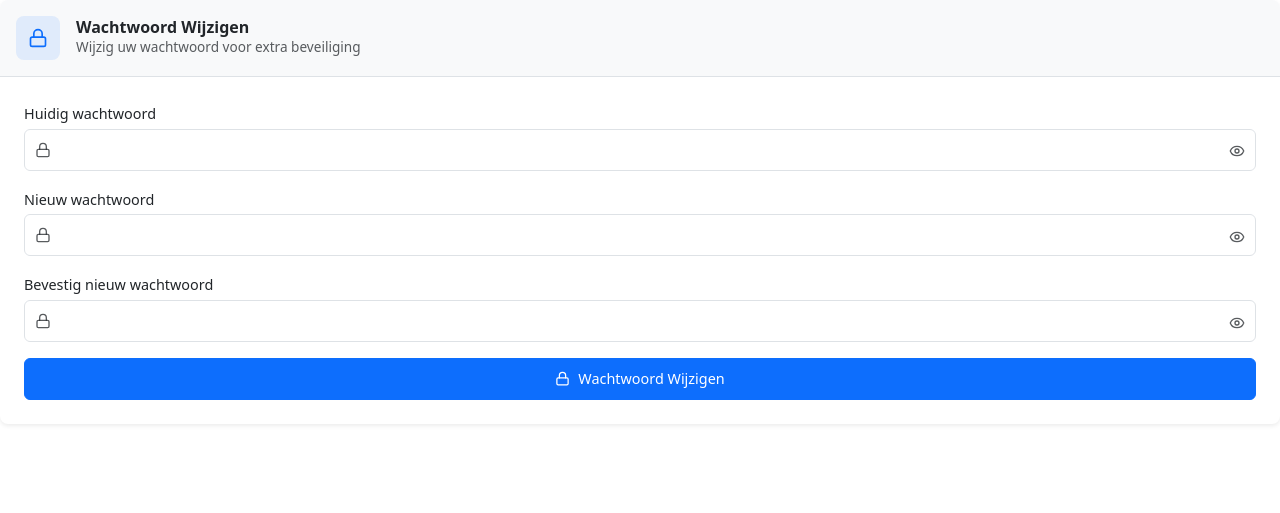
Test case: PasswordCard.vue › shows error when passwords do not match
Type "oldpass" into the password field with id "currentPassword".
click(640, 150); type("oldpass")  # box [24, 129, 1256, 171]
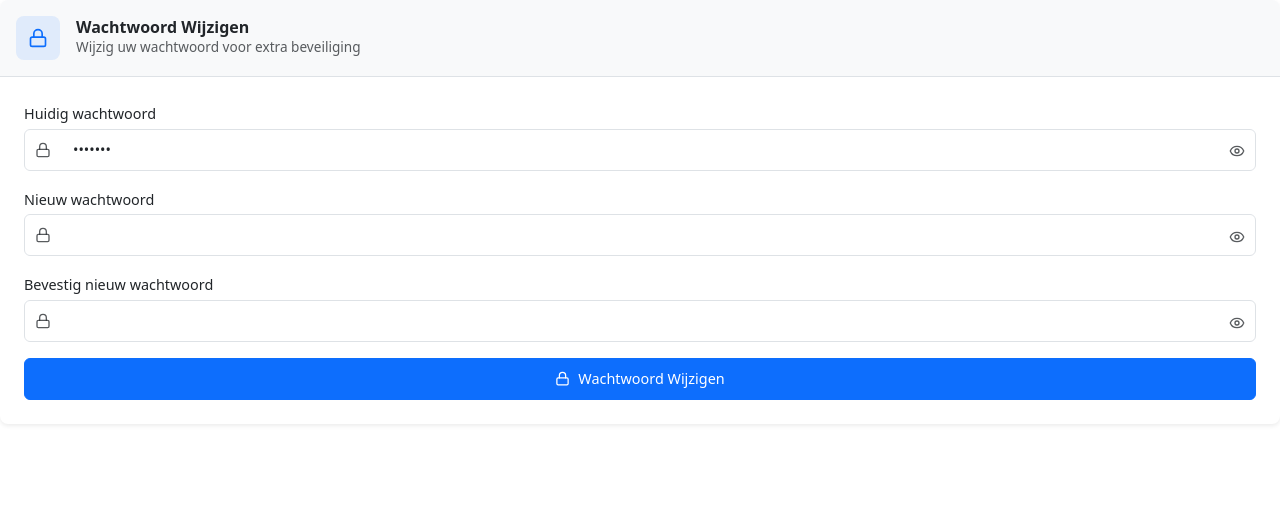
Type "newpassword1" into the password field with id "newPassword".
click(640, 235); type("newpassword1")  # box [24, 214, 1256, 256]
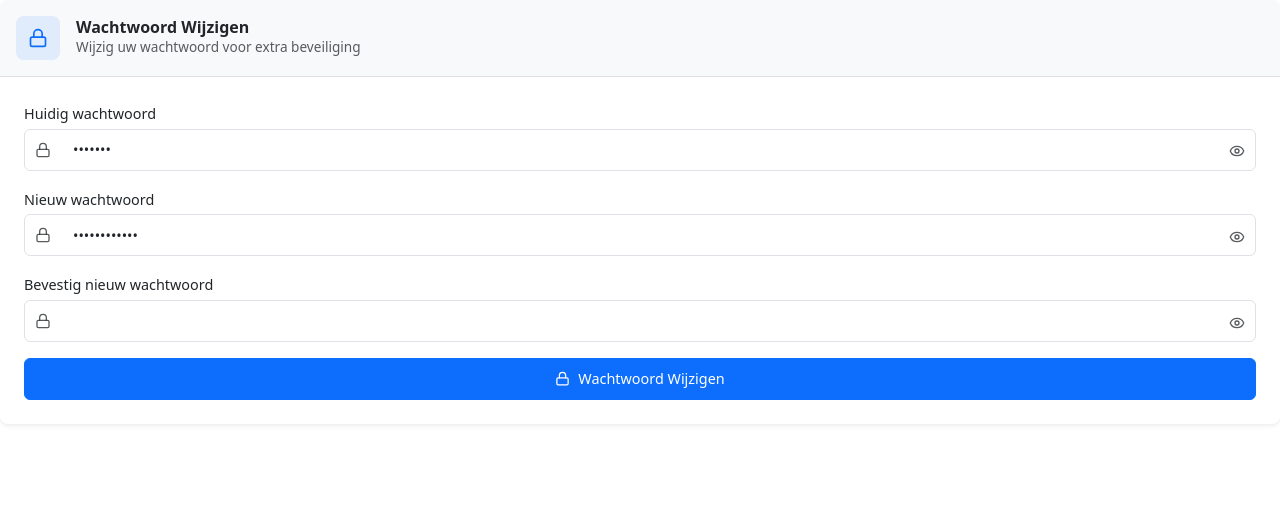
Type "newpassword2" into the password field with id "confirmPassword".
click(640, 321); type("newpassword2")  # box [24, 300, 1256, 342]
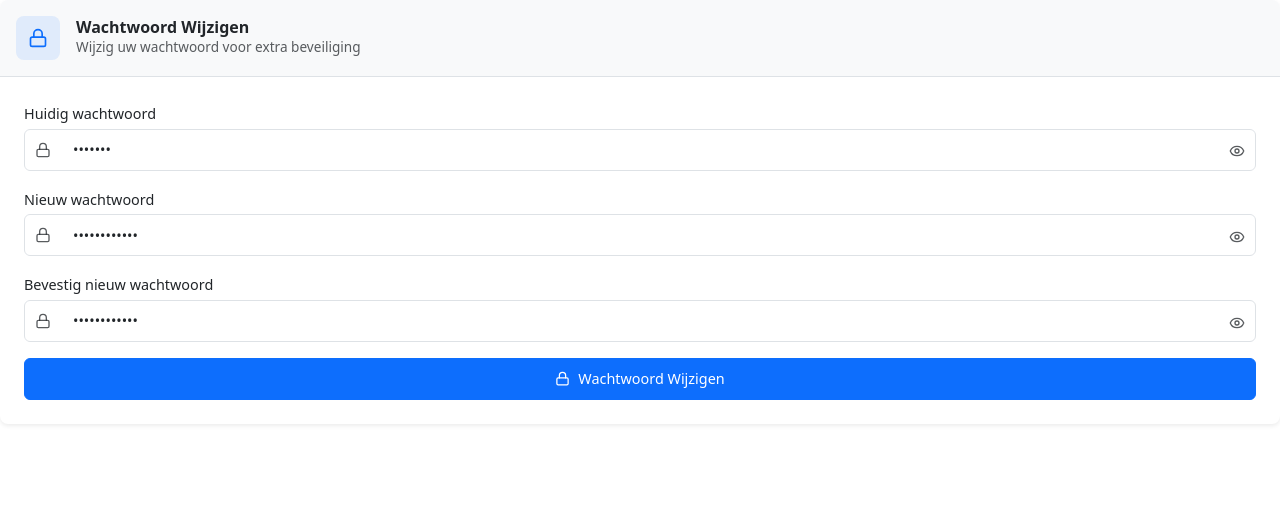
Submit the form, box [24, 101, 1256, 400]
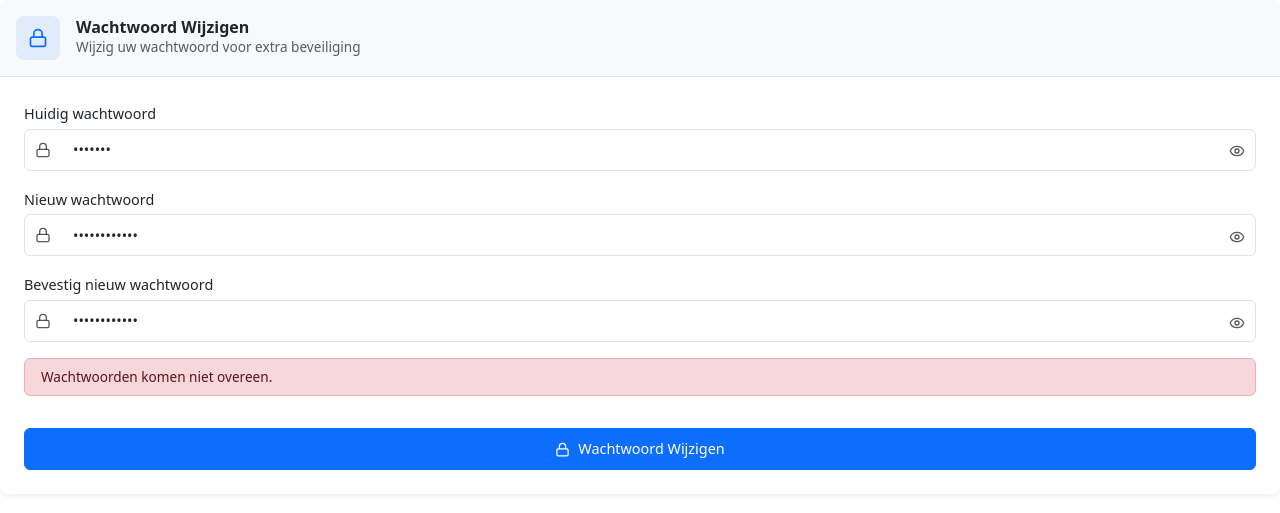
expect the text "Wachtwoorden komen niet overeen." is shown: met, box [24, 358, 1256, 396]
